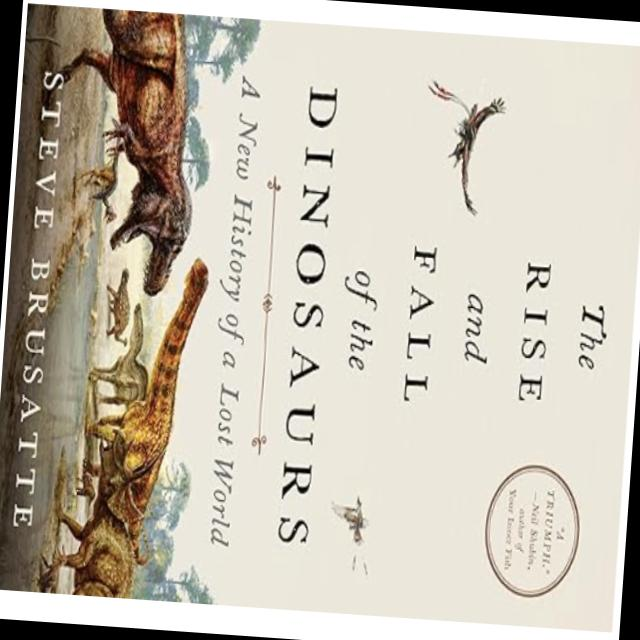titles-or-authors: (263, 74, 626, 575), (196, 61, 272, 564)
